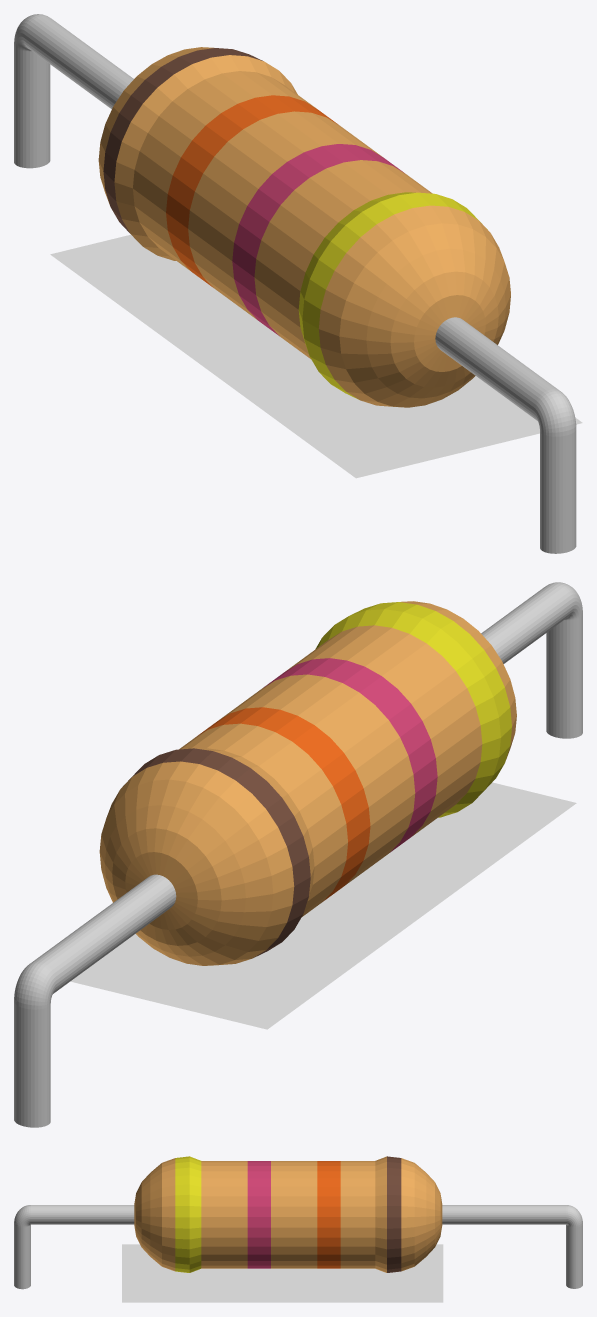
The picture shows the model from 3 angles, top to bottom: view 1: azimuth 30°, elevation 25°; view 2: azimuth 150°, elevation 25°; view 3: azimuth 270°, elevation 25°; orthographic projection. The views are drawn at different scales.
Visible parts, largest first — view 1: R_22, R_22_plane; view 2: R_22, R_22_plane; view 3: R_22, R_22_plane.
Part boxes in pixels (<box>): R_22: <box>14,14,576,553</box>; R_22_plane: <box>50,234,582,478</box>; R_22: <box>14,582,582,1127</box>; R_22_plane: <box>70,782,576,1029</box>; R_22: <box>14,1156,582,1289</box>; R_22_plane: <box>122,1244,443,1302</box>.
Size of the model in its own units: 0.0161 by 0.0159 by 0.0664.
